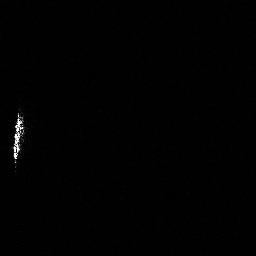ship: (11, 111, 27, 165)
